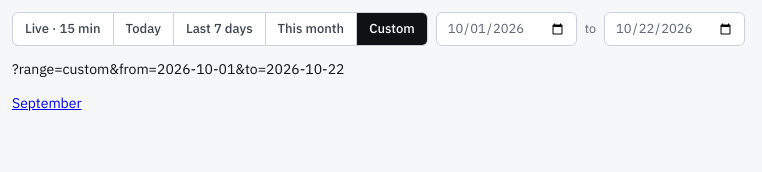
Test: the dates follow the address when it changes from outside
Click the link "September": (47, 103) [12, 94, 82, 112]
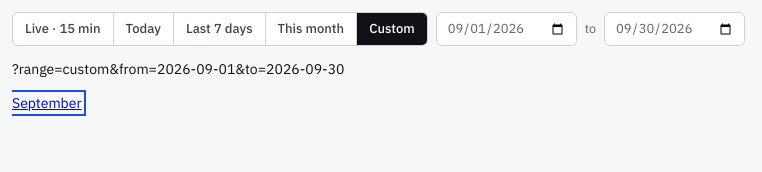
Now the date field named "First day" holds "2026-09-01", box [436, 12, 577, 46]
Now the date field named "Last day" holds "2026-09-30", box [604, 12, 745, 46]
